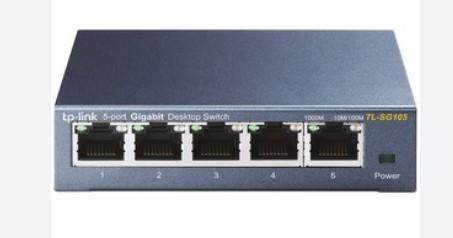NetworkSwitch: (53, 30, 418, 194)
